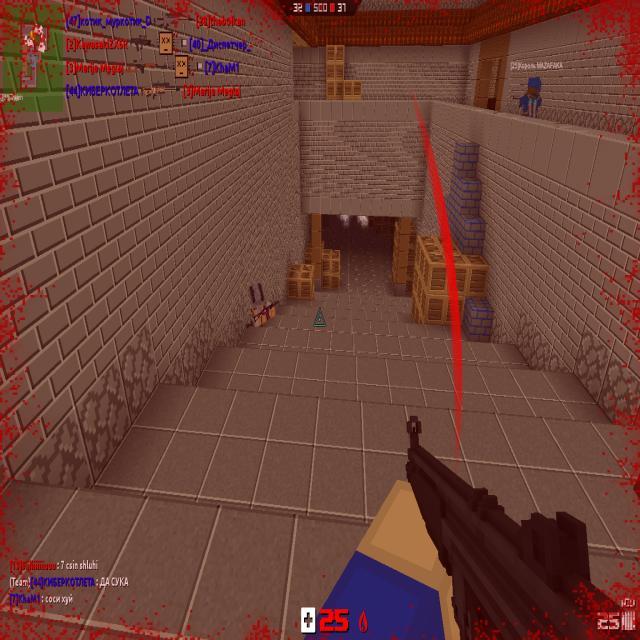enemy: (249, 282, 276, 327)
